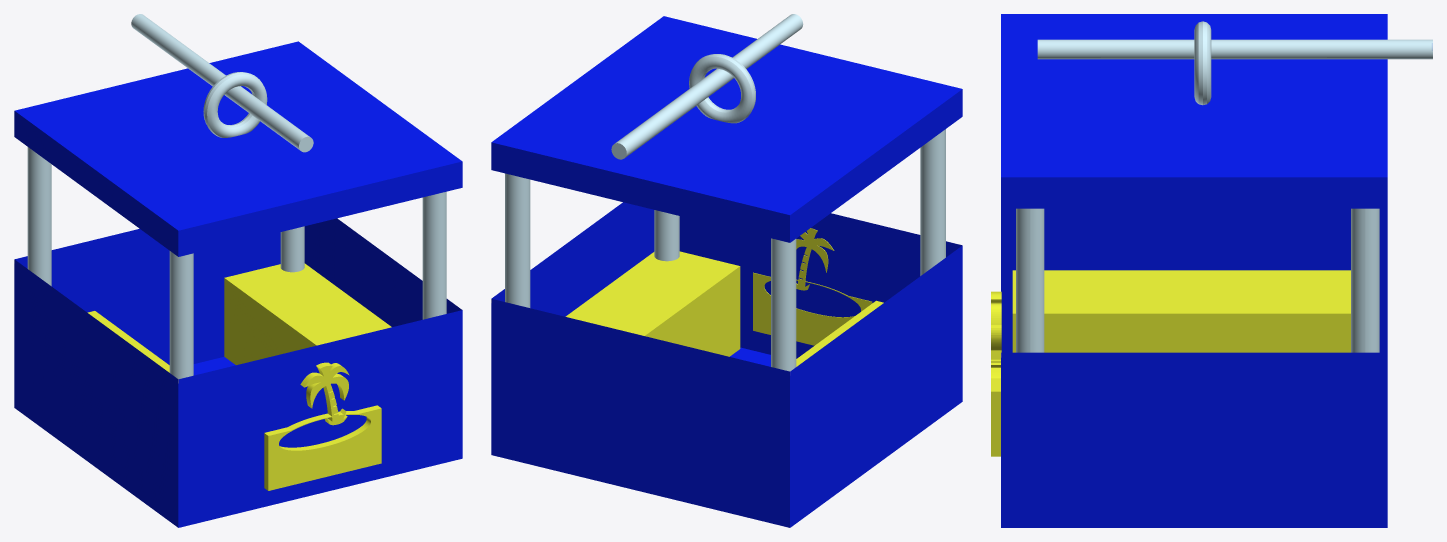
The model's file is ferris_wheel_carriage.glb.
The picture shows the model from 3 angles, left to right: view 1: azimuth 30°, elevation 25°; view 2: azimuth 150°, elevation 25°; view 3: azimuth 270°, elevation 25°; orthographic projection. The views are drawn at different scales.
Parts seen in each view (by area): view 1: carriage_model; view 2: carriage_model; view 3: carriage_model.
Boxes of the visible parts, bbox=[...] form: carriage_model: bbox=[14, 14, 462, 527]; carriage_model: bbox=[491, 14, 962, 527]; carriage_model: bbox=[991, 14, 1432, 527].
Size of the model in its own units: 2 by 2.4 by 2.29.
1 material, 1 textured.
